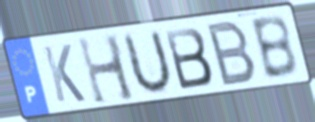B: (205, 18, 258, 89), (247, 12, 300, 82), (162, 25, 215, 92)
H: (74, 32, 138, 107)
K: (41, 42, 89, 105)
U: (122, 27, 174, 98)
